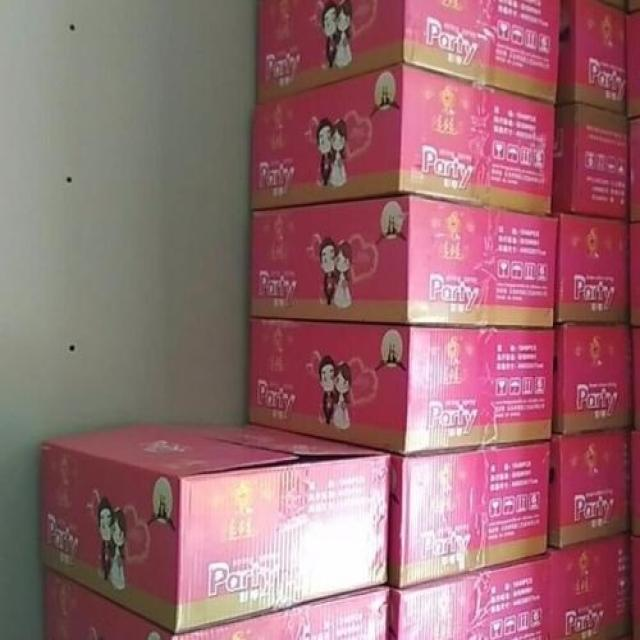box: (39, 416, 390, 635), (251, 65, 556, 217), (246, 316, 554, 454), (249, 195, 560, 327), (255, 2, 562, 107), (43, 565, 390, 639), (390, 534, 630, 639), (389, 440, 550, 589), (547, 429, 627, 549), (552, 102, 630, 221), (551, 325, 631, 435), (553, 213, 630, 327), (554, 0, 624, 114), (624, 8, 639, 117), (625, 432, 639, 538), (626, 535, 639, 639), (627, 221, 639, 330), (627, 115, 639, 221), (630, 327, 639, 433)
